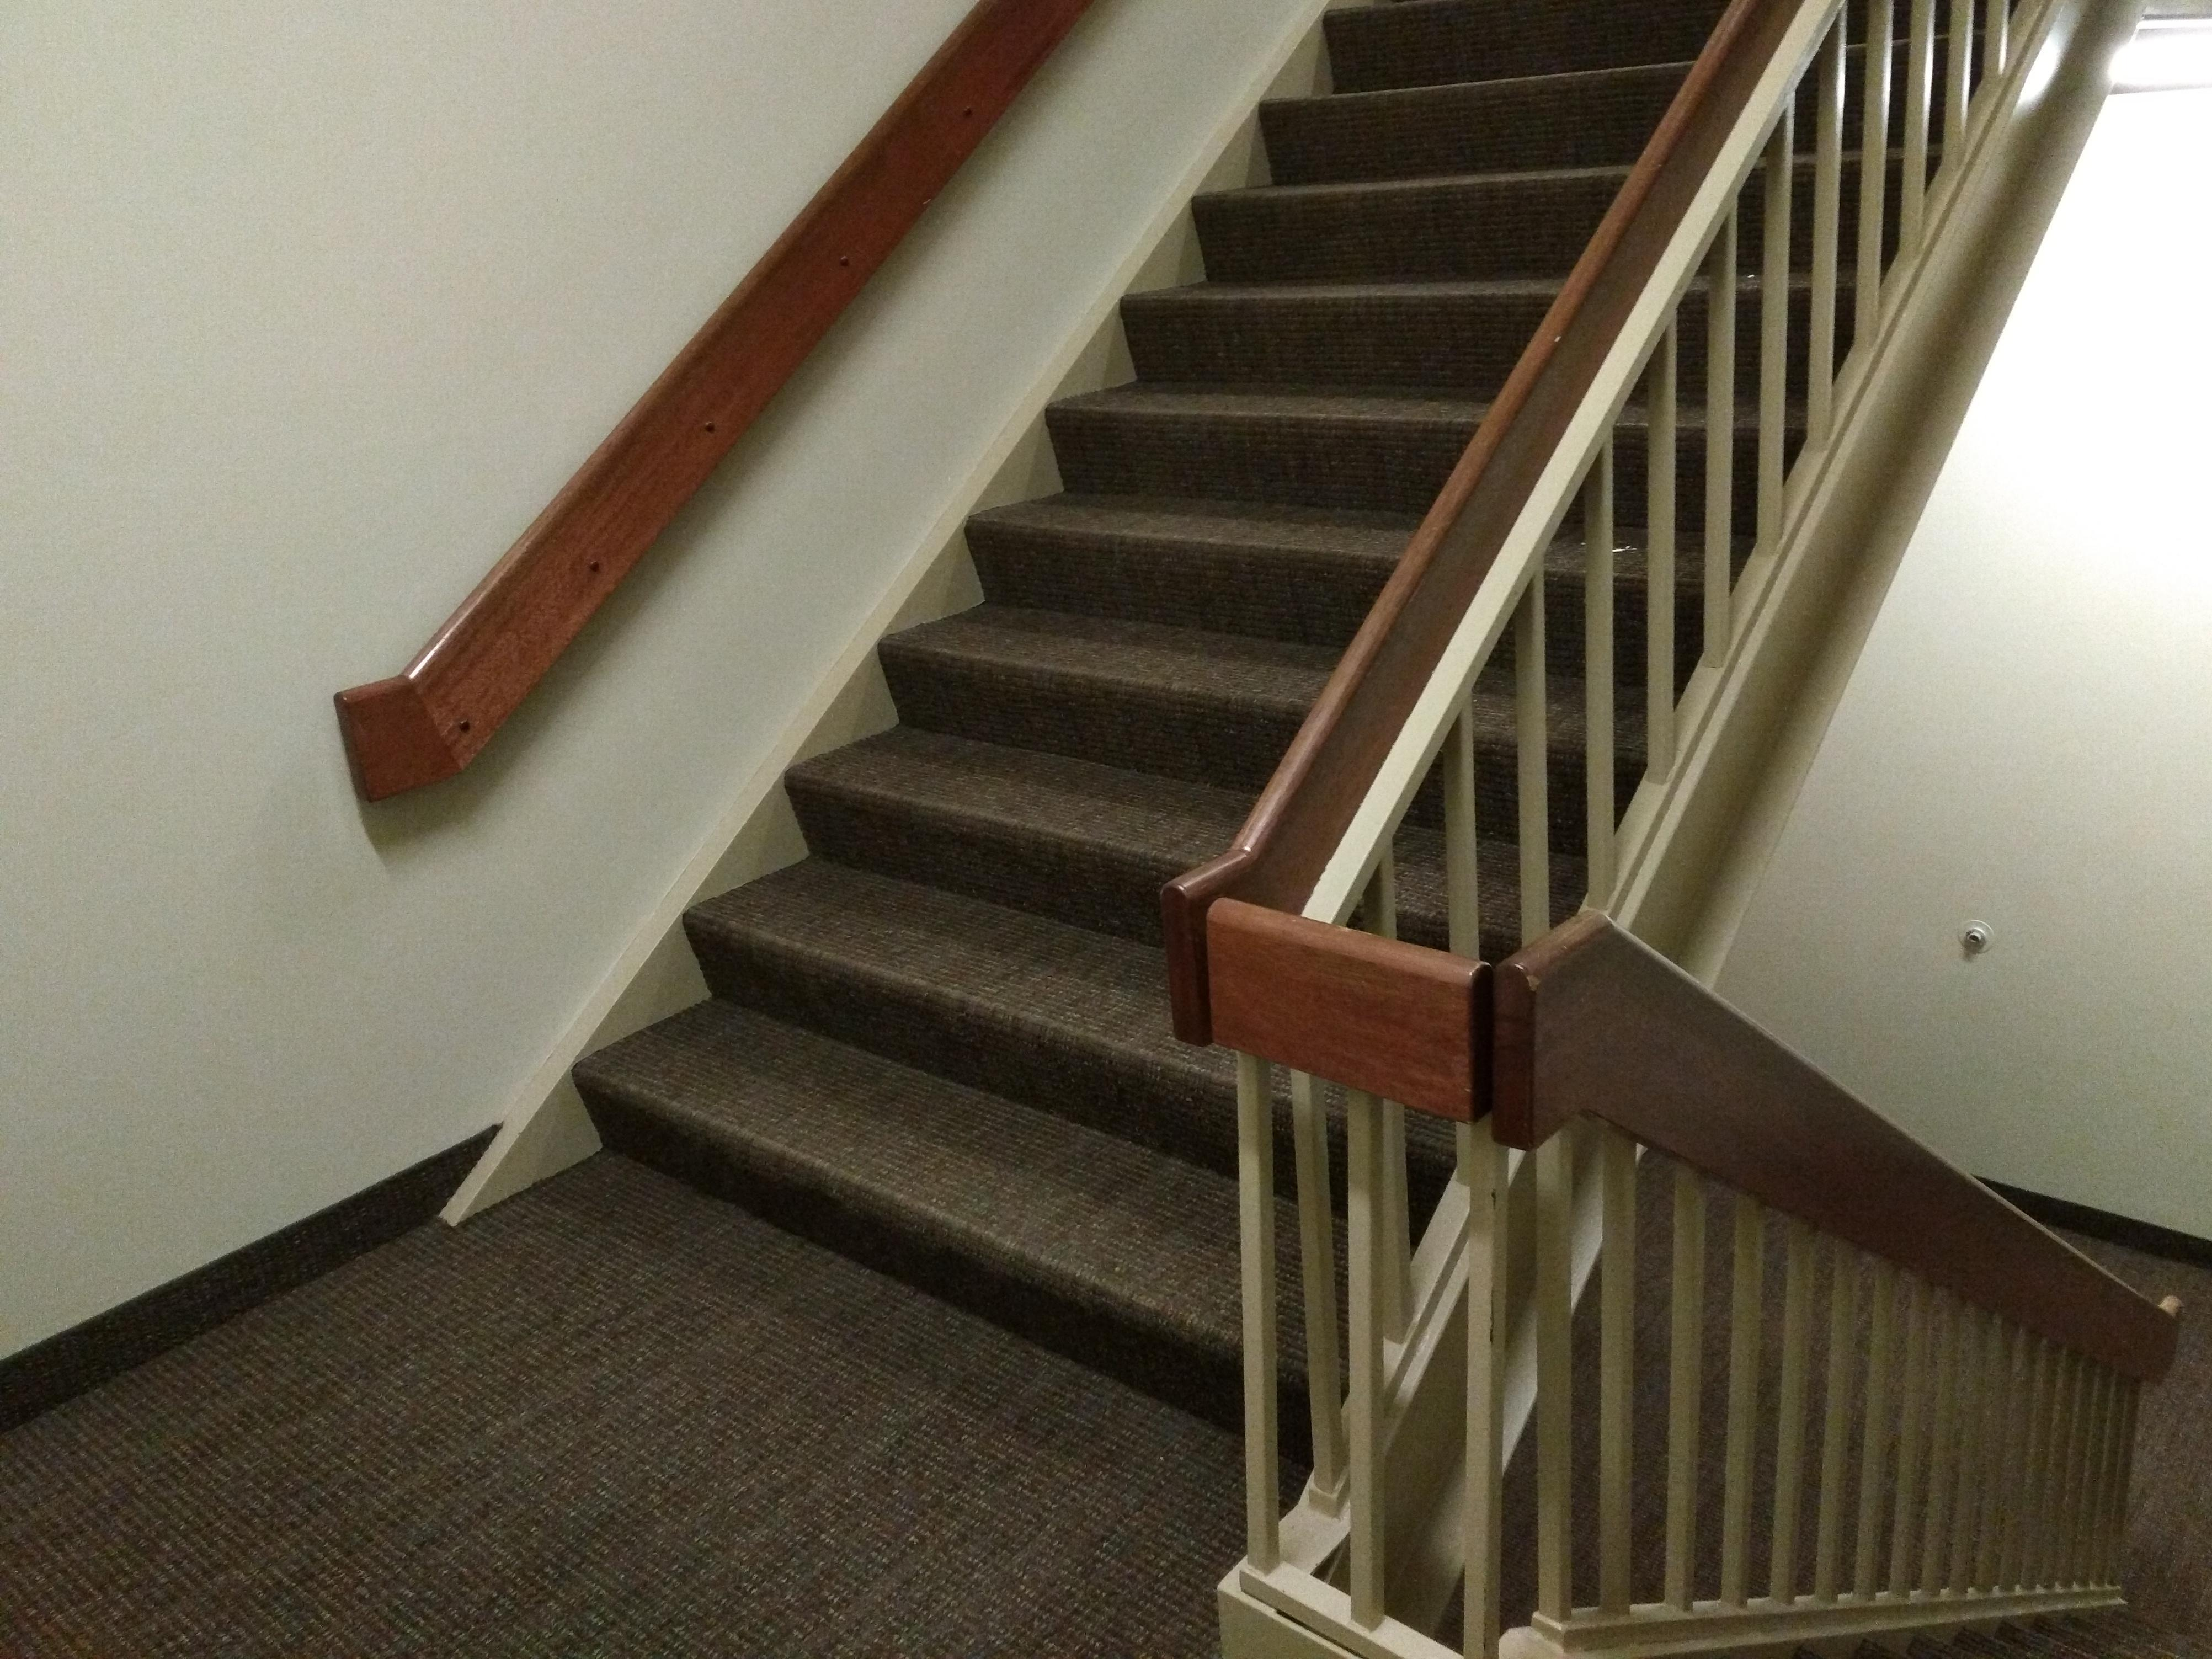stairs_up: (523, 7, 1985, 1398)
